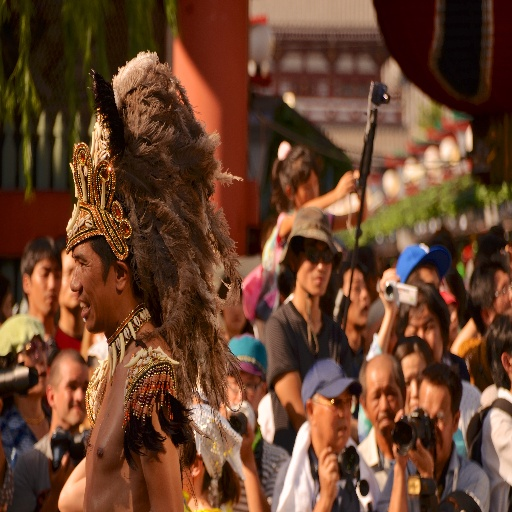hand: (46, 450, 76, 500), (316, 443, 339, 505), (376, 266, 399, 316), (407, 437, 433, 479), (391, 408, 407, 466), (334, 168, 360, 198), (241, 419, 253, 463)
